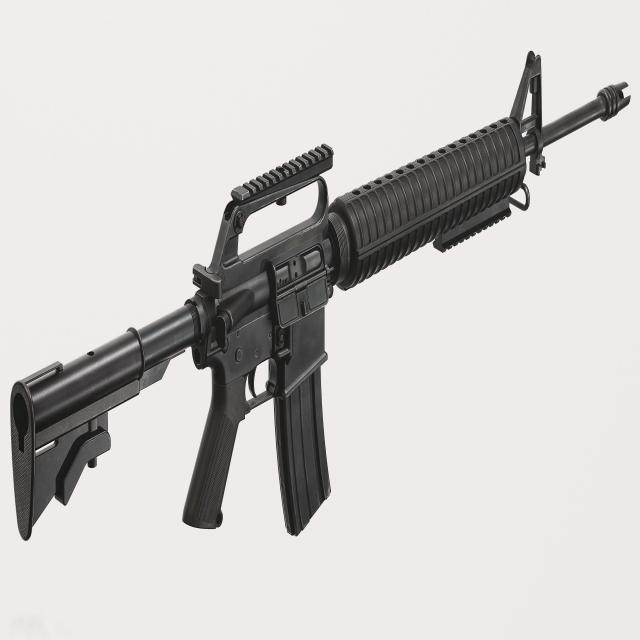m16: (6, 9, 628, 615)
